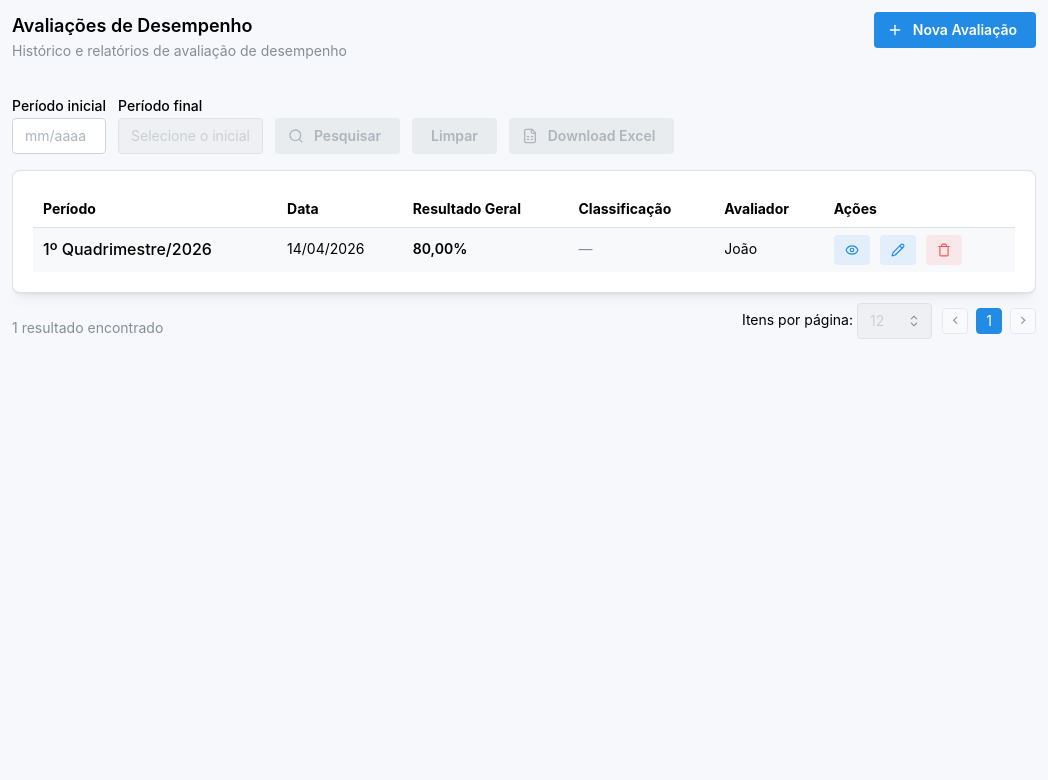
Scenario: PerformanceEvaluationTab › shows navigation between list and add with percentual notation
This screenshot has width=1048, height=780.
Expected: the text "Histórico e relatórios de avaliação de desempenho" is shown, [12, 41, 347, 61]
Expected: the text "80,00%" is shown, [413, 240, 467, 257]
Step 1. Click the button "Nova Avaliação" → (955, 30), box [874, 12, 1036, 48]
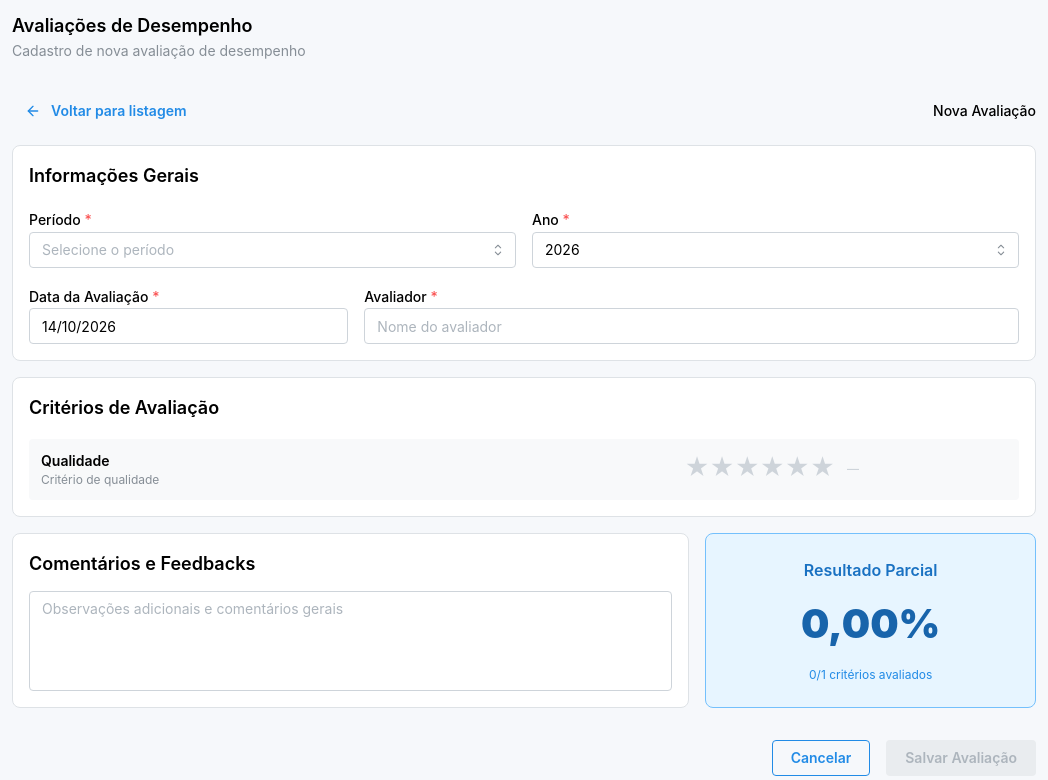
Expected: the text "0,00%" is shown, [801, 593, 940, 655]
Now the button "Voltar para listagem" is shown, box [12, 93, 206, 129]
